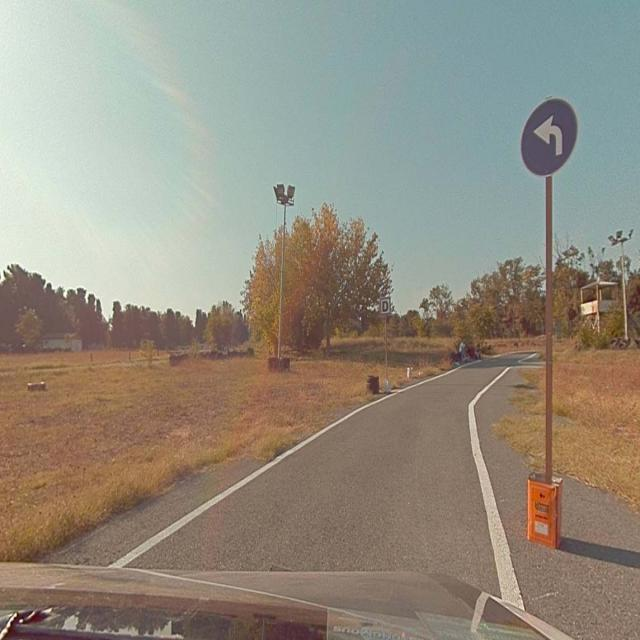durak: (380, 298, 390, 314)
sol: (522, 98, 576, 173)
